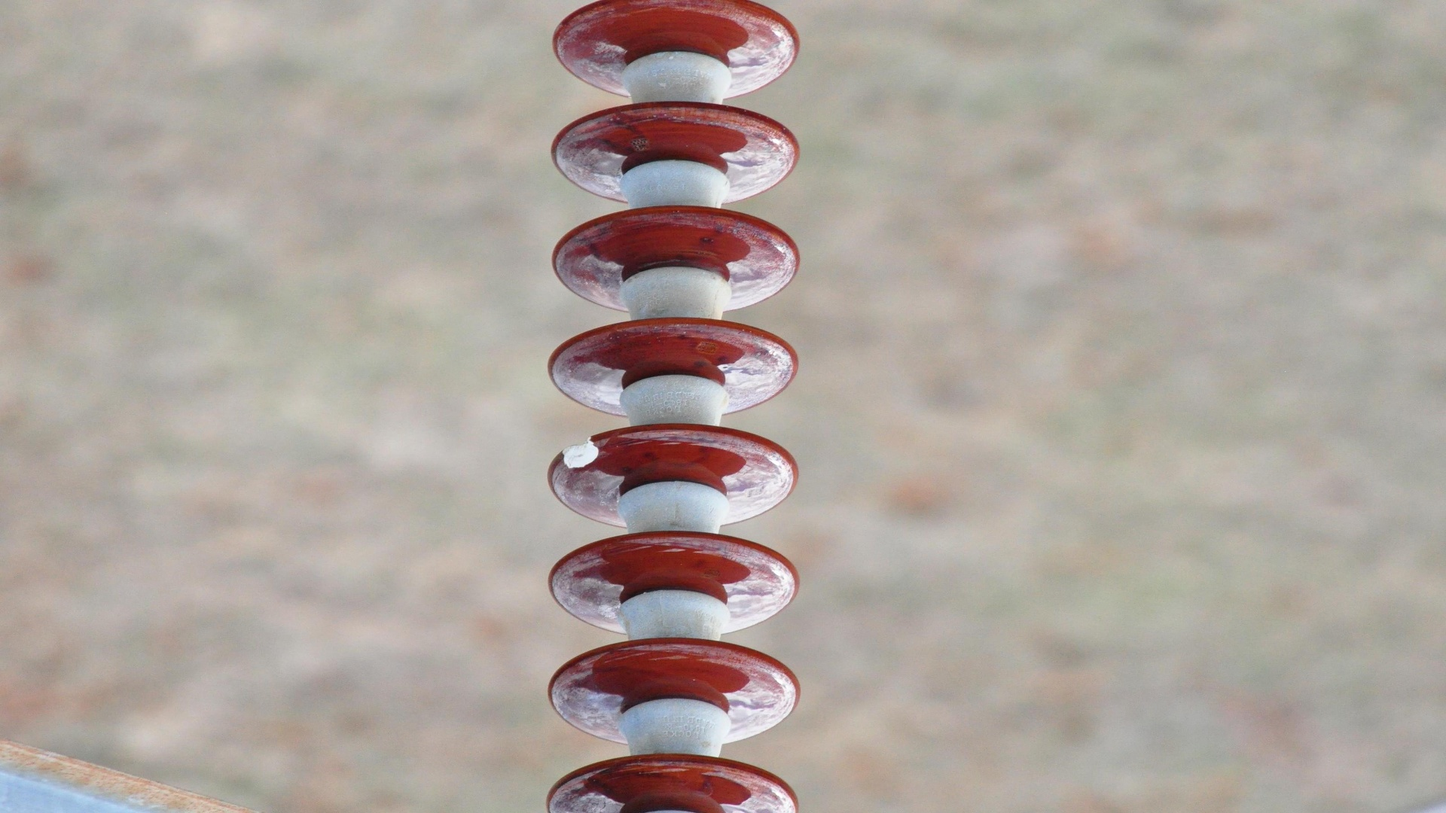insulator: (537, 1, 809, 813)
insulator_breakage: (559, 429, 609, 477)
